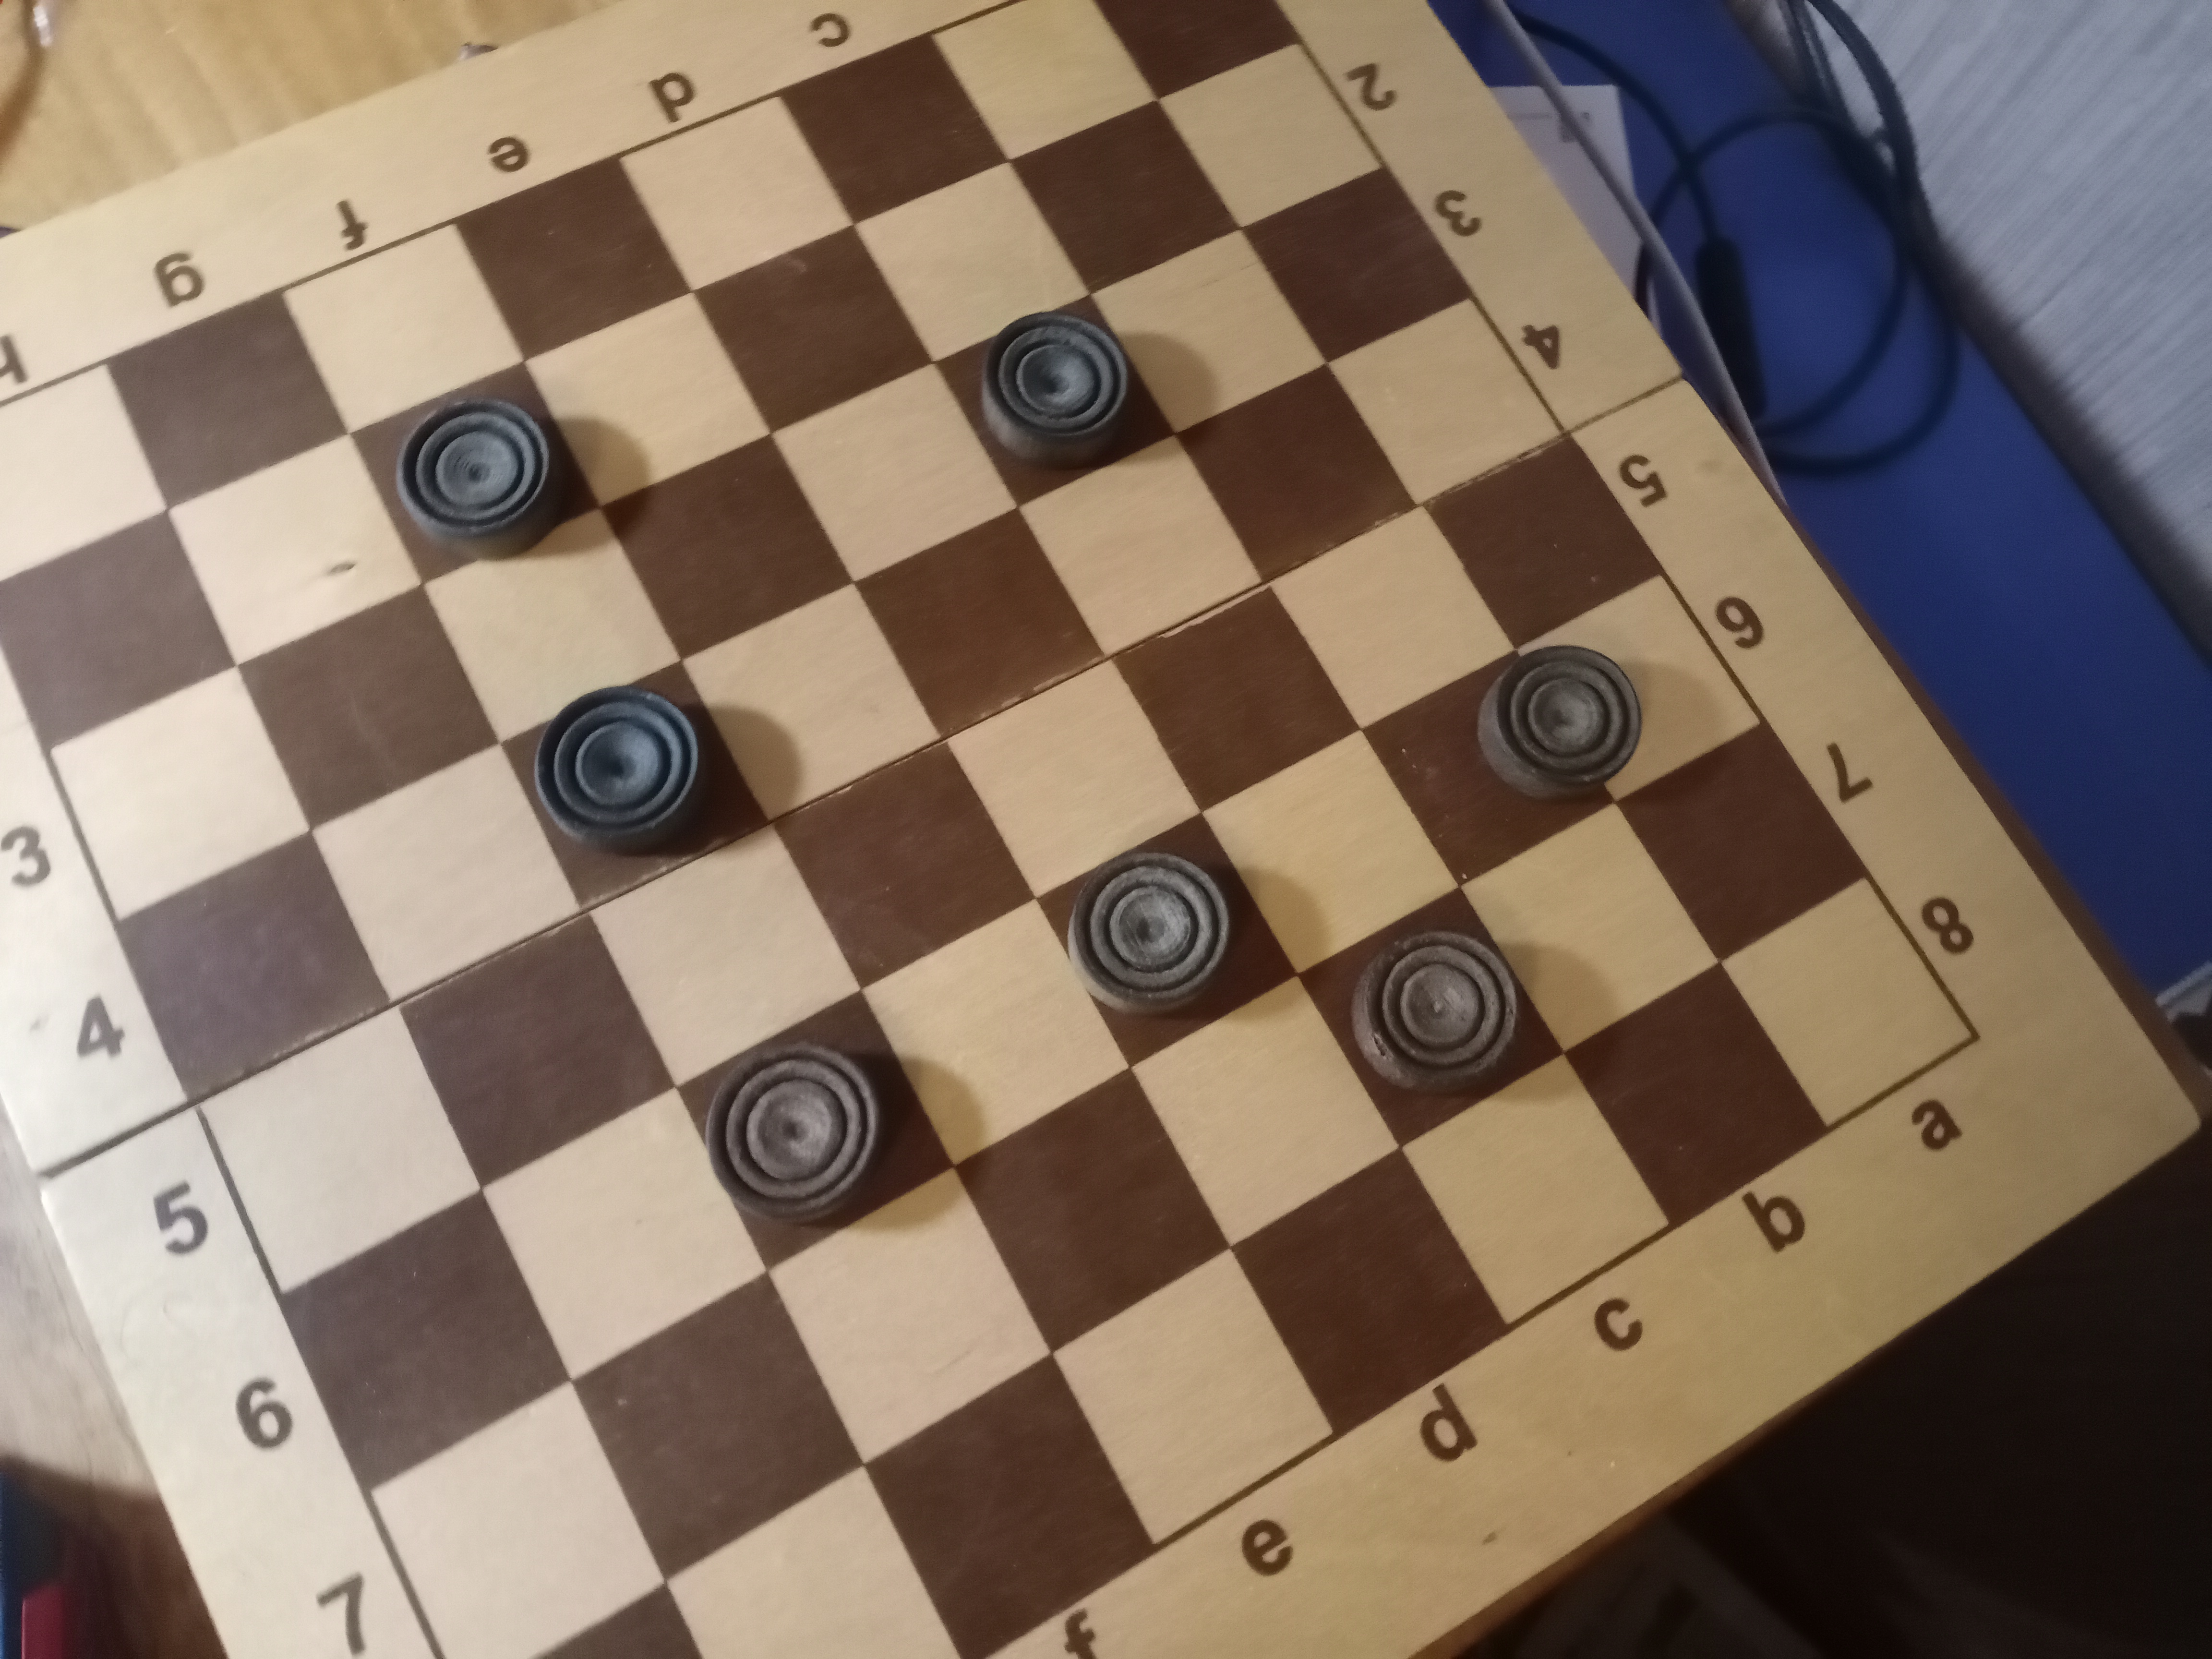Black_Draught: (676, 988, 954, 1274), (1299, 887, 1566, 1150), (1362, 645, 1644, 889), (500, 660, 772, 911), (1038, 814, 1296, 1068), (348, 361, 601, 584), (934, 295, 1174, 507)
